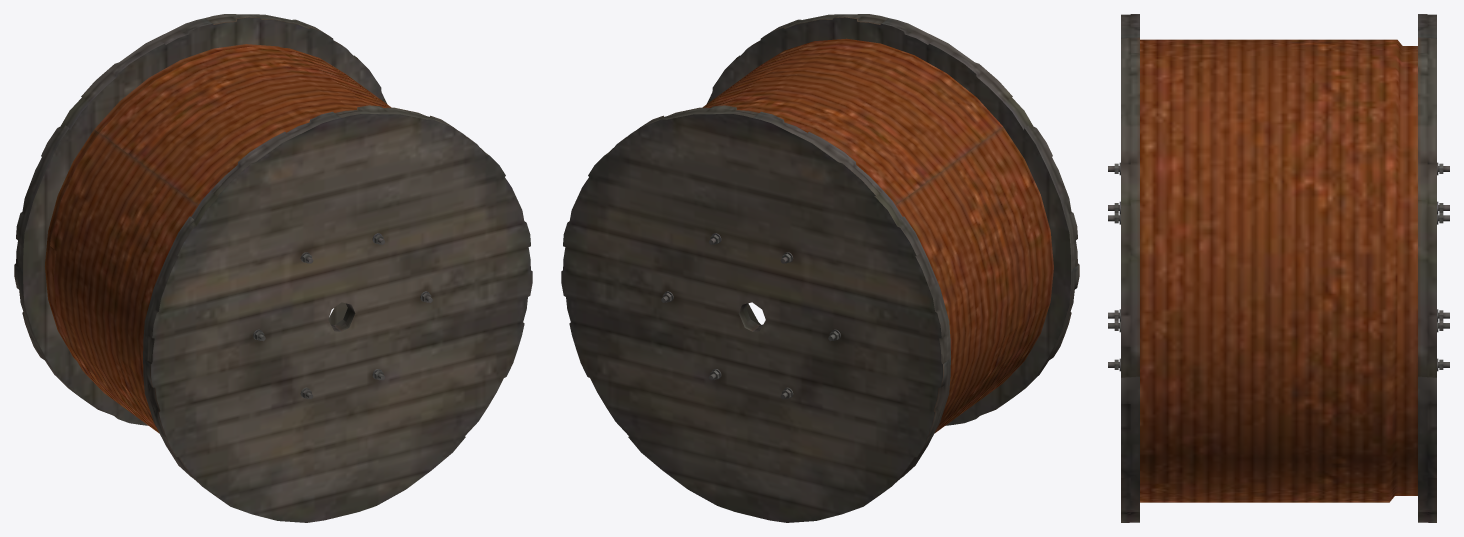
Rendered from SM_coilWire_6872a6.glb.
3 renders of one model, left to right at view 1: azimuth 30°, elevation 25°; view 2: azimuth 150°, elevation 25°; view 3: azimuth 270°, elevation 25°, orthographic. The views are drawn at different scales.
Bounding box in the file's own units: 2.05 × 2.05 × 1.37.
Materials: 1 (1 with a texture image).
